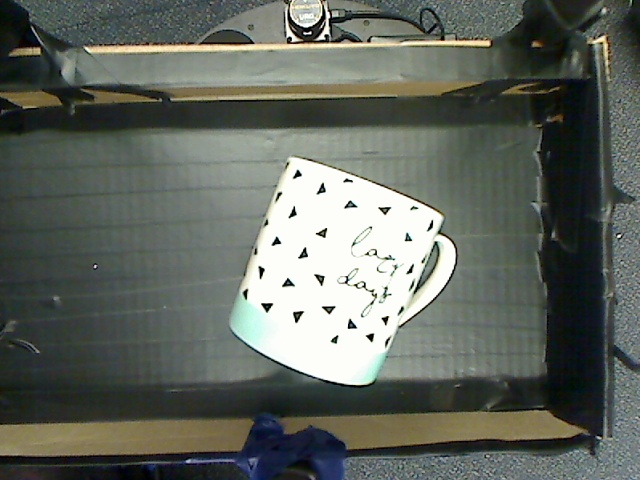mug: (221, 147, 460, 394)
